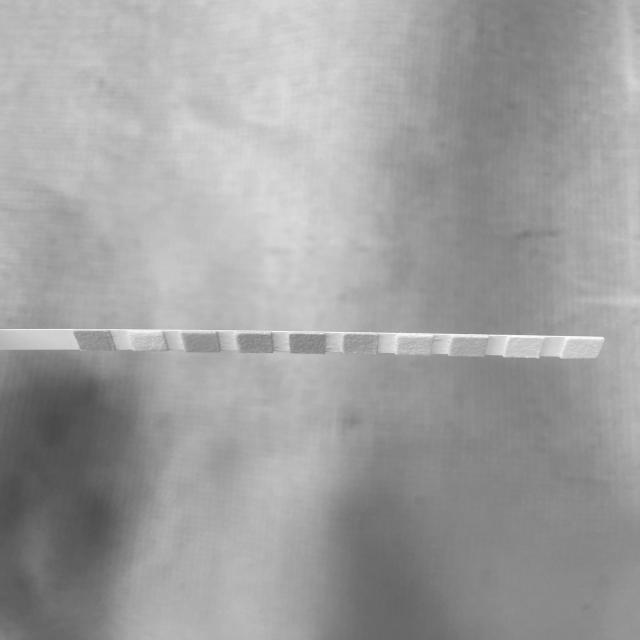Bilirubin: (136, 332, 161, 350)
Blood: (291, 334, 324, 354)
Glucose: (82, 332, 108, 350)
Ketone: (188, 334, 215, 351)
Leukocytes: (569, 339, 597, 358)
Nitrite: (509, 338, 538, 358)
Protein: (398, 338, 431, 354)
SpGravity: (239, 334, 270, 352)
Urobilinogen: (454, 338, 484, 356)
background: (0, 0, 640, 640)
pH: (345, 335, 377, 353)
strip: (1, 330, 603, 359)
